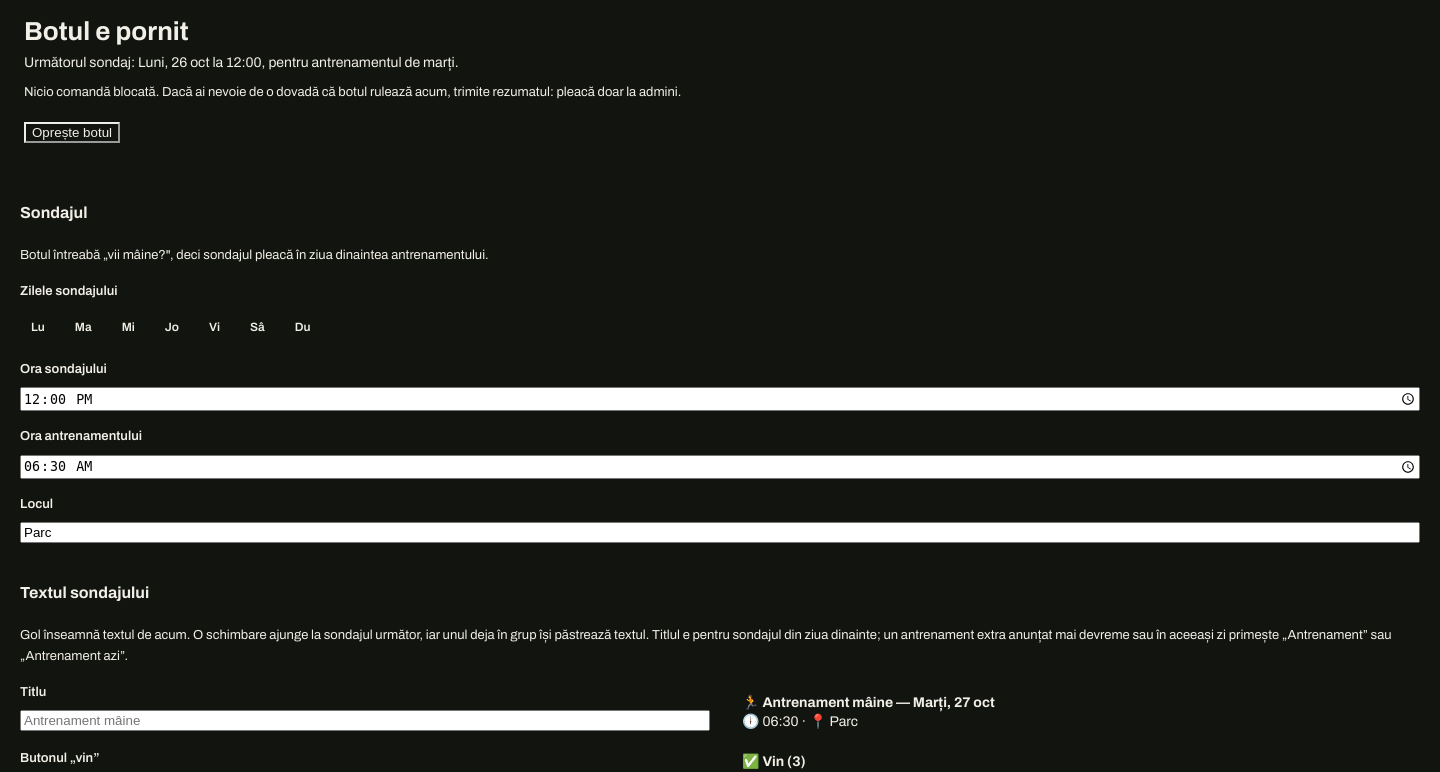
pornit/oprit › doar comutatorul atins nu lasă formularul „nesalvat"
Expected: the text "Textul sondajului" is shown, [12, 581, 157, 605]
Replace the text in the field labelled "Locul" with "Alt parc" at (720, 533), box [20, 522, 1420, 543]
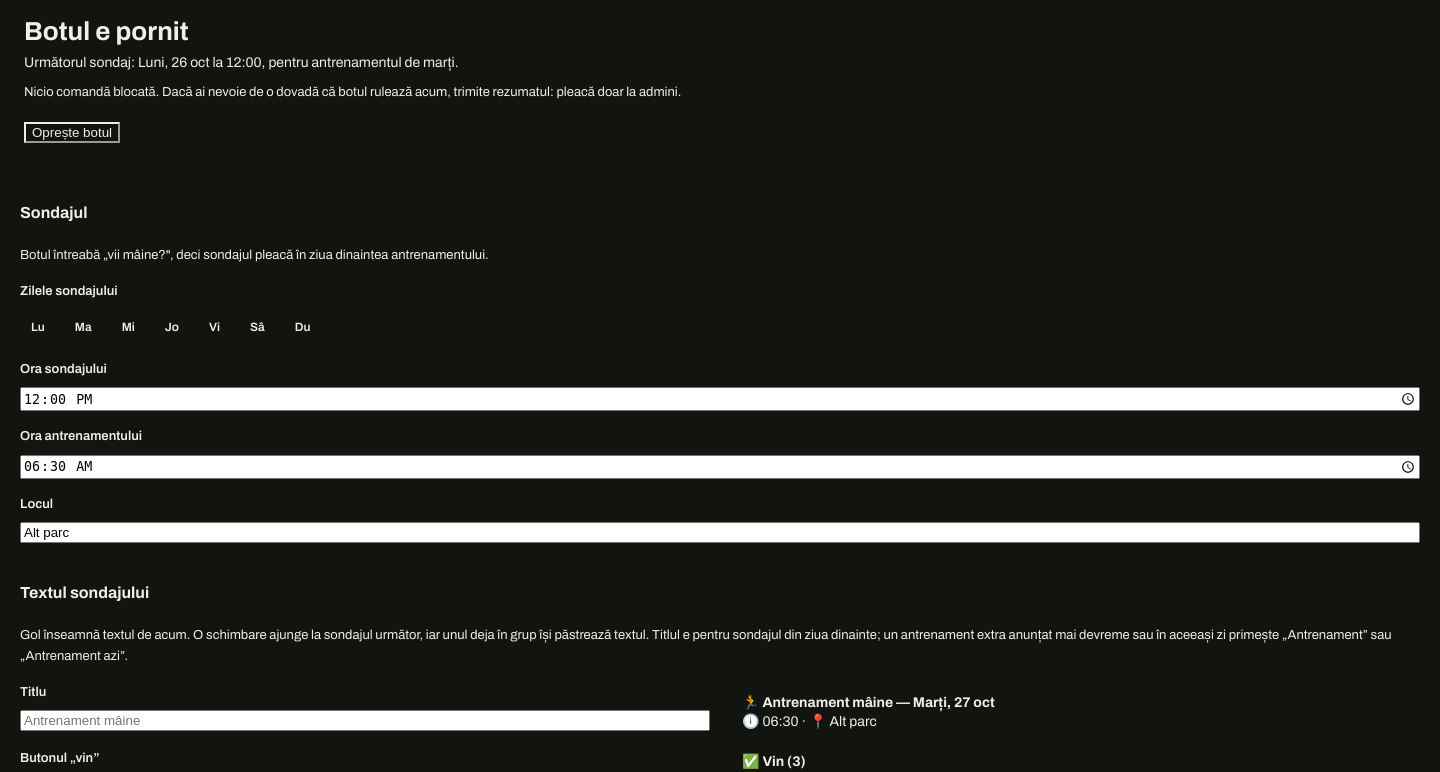
Replace the text in the field labelled "Locul" with "Parc" at (720, 533), box [20, 522, 1420, 543]
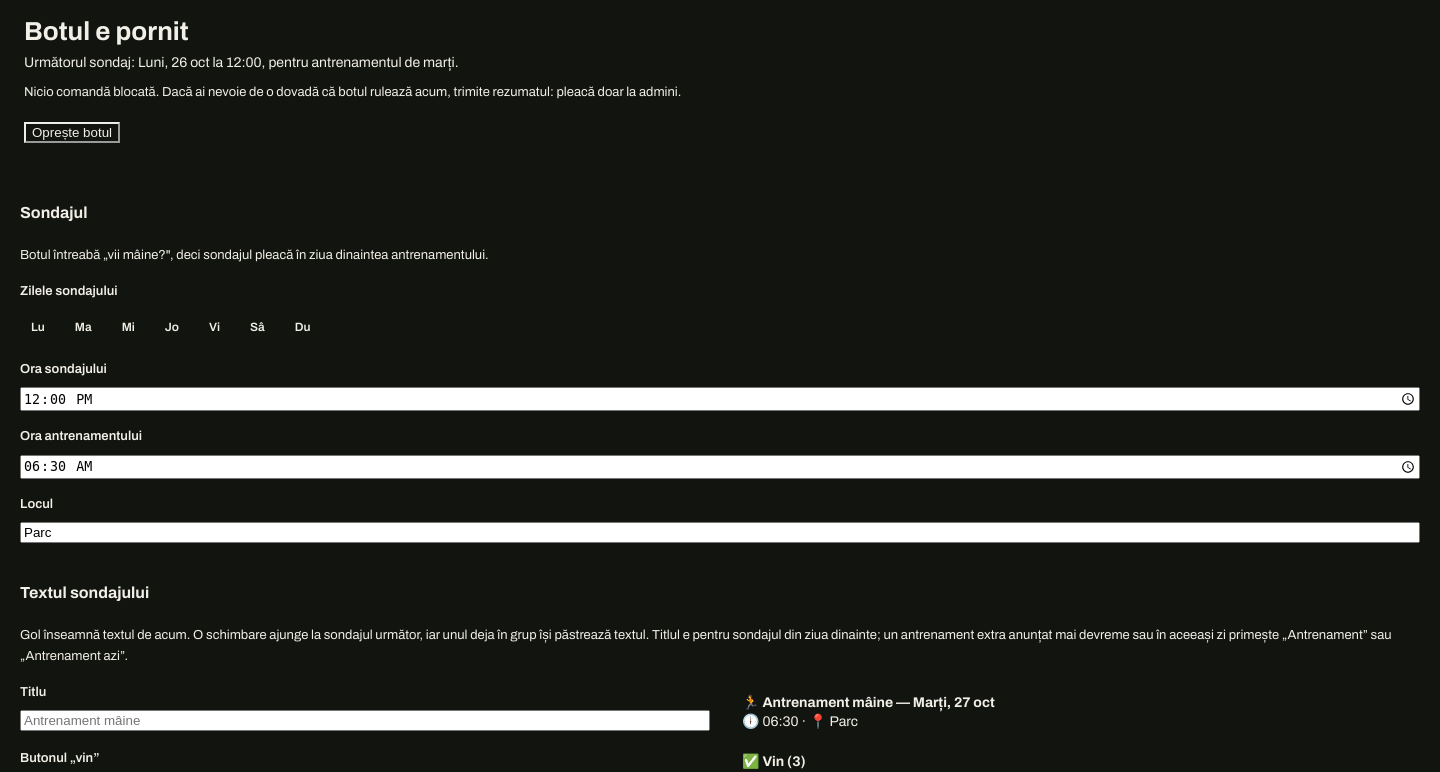
Click the button "Oprește botul" at (72, 133), box [24, 122, 120, 143]
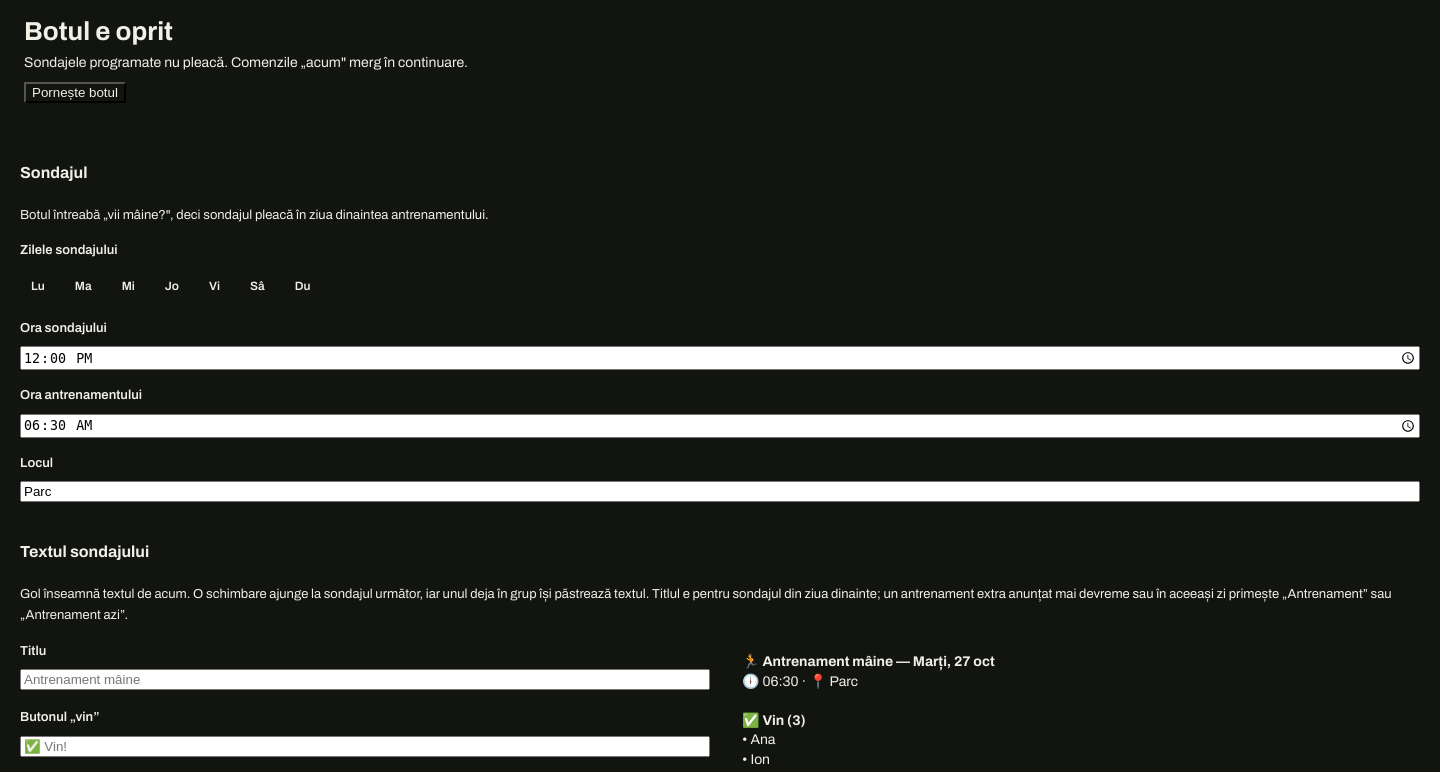
Result: the button "Pornește botul" is shown at [24, 82, 126, 103]
